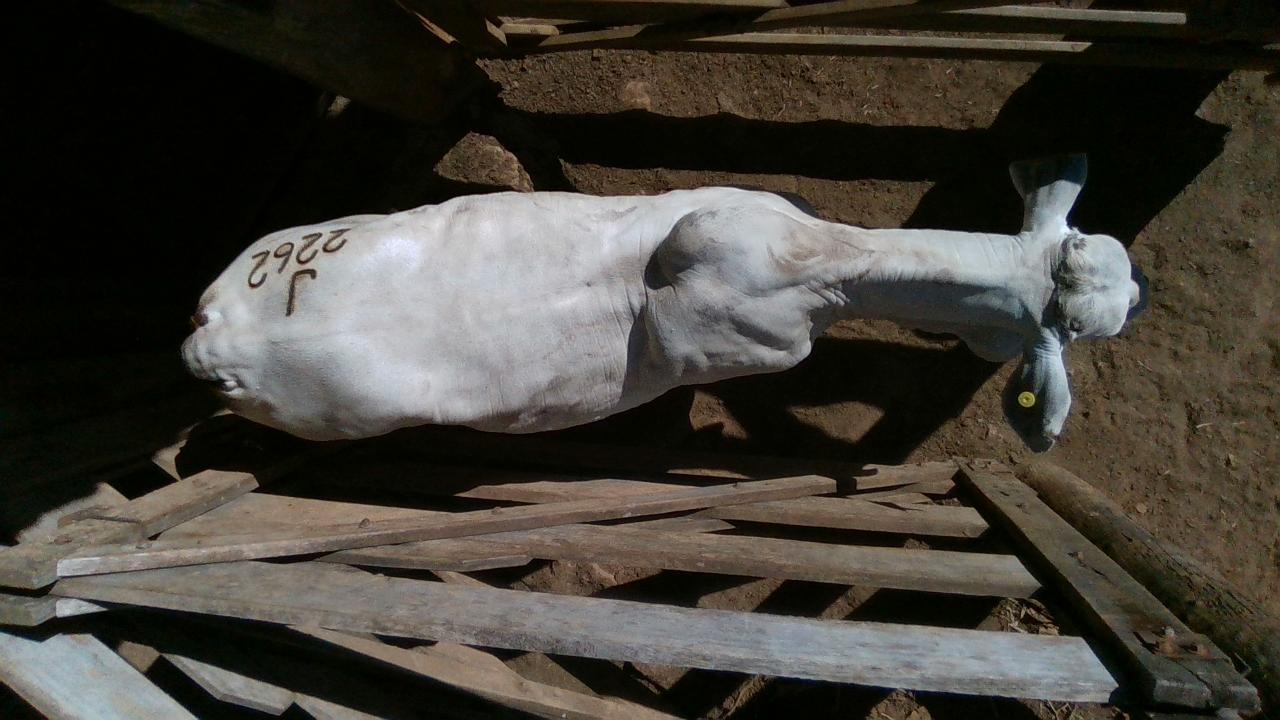cattle: (179, 149, 1141, 451)
